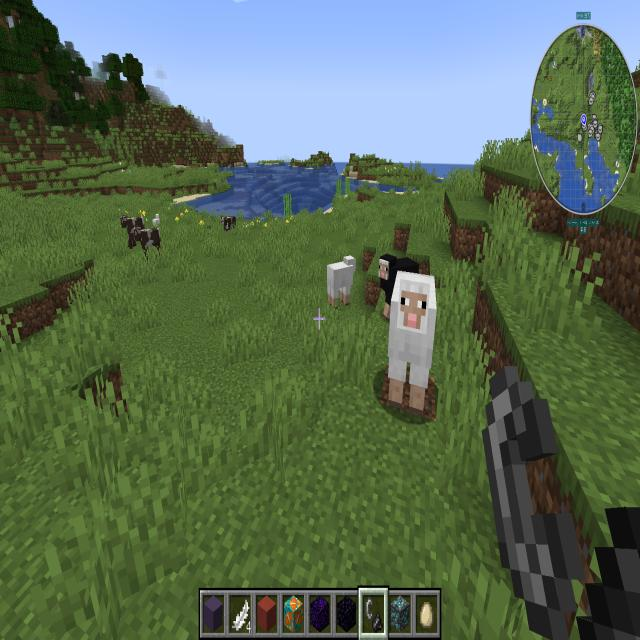chicken: (152, 213, 161, 230)
cow: (118, 212, 145, 250), (133, 225, 162, 260), (217, 212, 239, 237)
